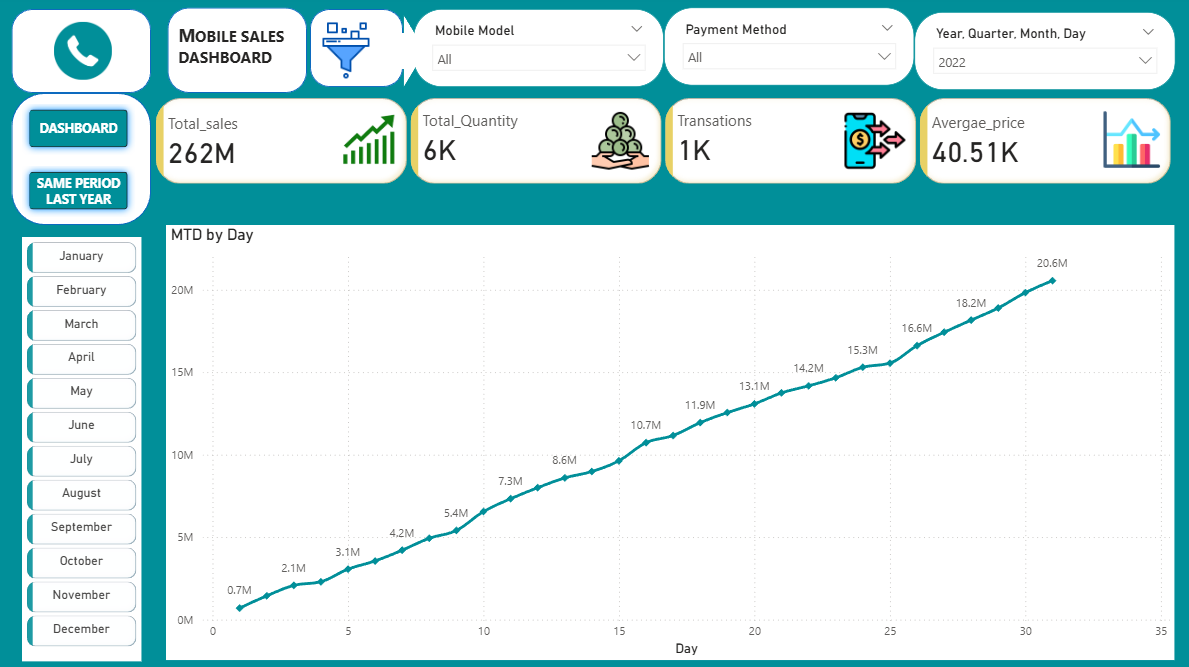

What the dashboard file says about the page in this screenshot:
{"tool":"powerbi","page":{"name":"MTD REPORT","canvas":[1280,720],"ordinal":1},"visuals":[{"type":"shape","box":[20.7,15.9,147.9,89.1],"z":0},{"type":"image","box":[60.4,22.3,71.6,76.3],"z":1000},{"type":"shape","box":[20.7,105,147.9,140],"z":2000},{"type":"cardVisual","fields":{"Data":["Sales_data.Total_sales","Sales_data.Total_Quantity","Sales_data.Transations","Sales_data.Avergae_price"]},"box":[168.6,105,1086.4,101.8],"z":3000},{"type":"slicer","fields":{"Values":["Sales_data.Mobile Model"]},"box":[447,15.9,265.6,82.7],"z":4000},{"type":"slicer","fields":{"Values":["Sales_data.Payment Method"]},"box":[712.6,14.3,265.6,82.7],"z":5000},{"type":"slicer","fields":{"Values":["Calendar.Date.Variation.Date Hierarchy.Year","Calendar.Date.Variation.Date Hierarchy.Quarter","Calendar.Date.Variation.Date Hierarchy.Month","Calendar.Date.Variation.Date Hierarchy.Day"]},"box":[978.2,19.1,276.8,82.7],"z":6000},{"type":"shape","box":[337.2,15.9,98.6,82.7],"z":7000},{"type":"image","box":[334,23.9,82.7,71.6],"z":8000},{"type":"shape","box":[413.6,22.3,46.1,76.3],"z":9000},{"type":"shape","box":[186.1,14.3,147.9,90.7],"z":10000},{"type":"textbox","box":[192.5,25.4,136.8,66.8],"z":11000},{"type":"lineChart","fields":{"Category":["Calendar.Date.Variation.Date Hierarchy.Year","Calendar.Date.Variation.Date Hierarchy.Quarter","Calendar.Date.Variation.Date Hierarchy.Month","Calendar.Date.Variation.Date Hierarchy.Day"],"Y":["Sales_data.MTD"]},"box":[185.2,245.7,1069.6,461.1],"z":12000},{"type":"advancedSlicerVisual","fields":{"Values":["Calendar.Date.Variation.Date Hierarchy.Month"]},"box":[32.1,257,126.6,449.8],"z":13000},{"type":"pageNavigator","box":[31.8,114.5,120.9,122.5],"z":14000}]}

Visuals, with their boxes in screenshot pixels (x1, y1, x2, y2), scaled from the page's 1280x720 canvas onto the 1189x667 screenshot:
shape: [19, 15, 157, 97]
image: [56, 21, 123, 91]
shape: [19, 97, 157, 227]
cardVisual - Sales_data.Total_sales x Sales_data.Total_Quantity: [157, 97, 1166, 192]
slicer - Sales_data.Mobile Model: [415, 15, 662, 91]
slicer - Sales_data.Payment Method: [662, 13, 909, 90]
slicer - Calendar.Date.Variation.Date Hierarchy.Year x Calendar.Date.Variation.Date Hierarchy.Quarter: [909, 18, 1166, 94]
shape: [313, 15, 405, 91]
image: [310, 22, 387, 88]
shape: [384, 21, 427, 91]
shape: [173, 13, 310, 97]
textbox: [179, 24, 306, 85]
lineChart - Calendar.Date.Variation.Date Hierarchy.Year x Calendar.Date.Variation.Date Hierarchy.Quarter: [172, 228, 1166, 655]
advancedSlicerVisual - Calendar.Date.Variation.Date Hierarchy.Month: [30, 238, 147, 655]
pageNavigator: [30, 106, 142, 220]
